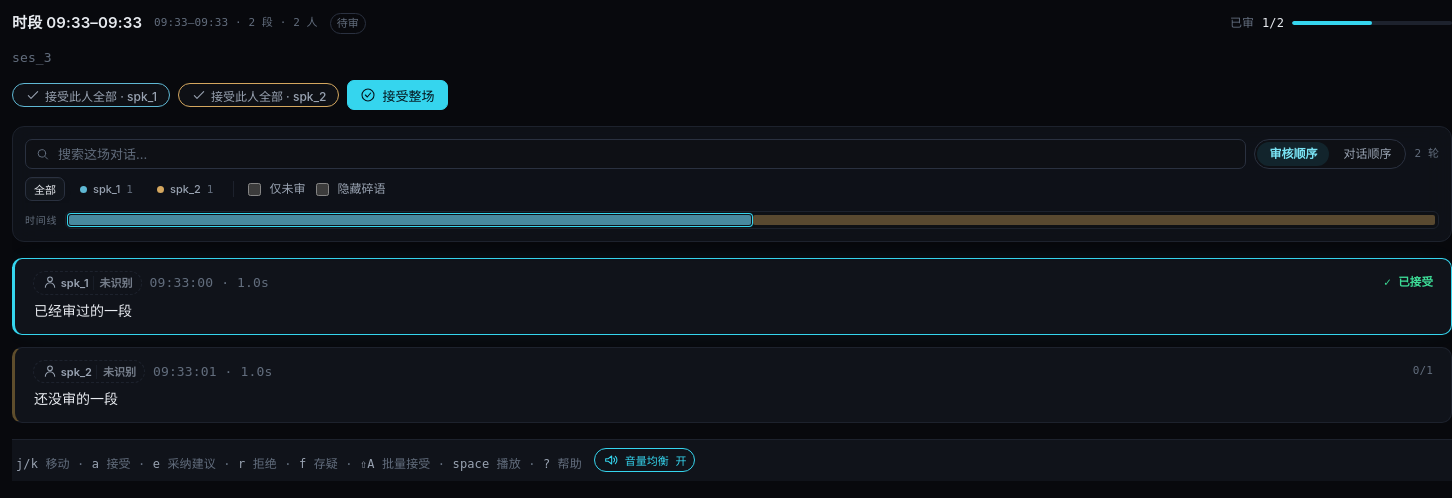
Test: TranscriptReviewPanel › hides fully-accepted turns when 仅未审 is on
Expected: the button "已经审过的一段" is shown, [33,302,133,318]
Click the checkbox labelled "仅未审": (254, 189) [248,182,261,196]
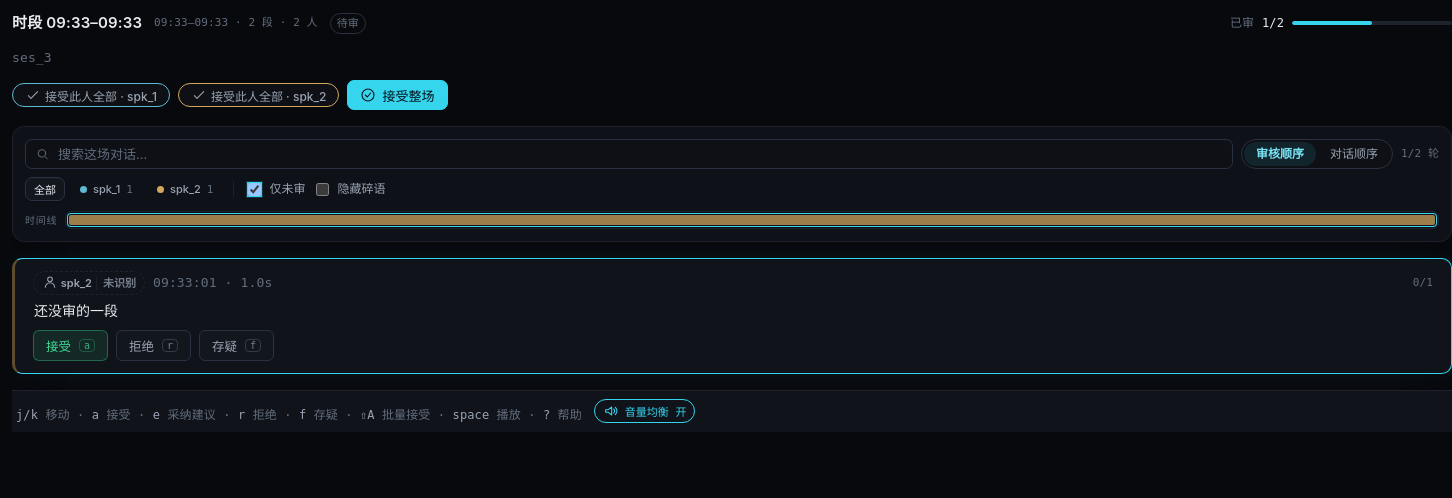
Expected: the button "还没审的一段" is shown, [33,302,119,318]
Expected: the button "已经审过的一段" is gone
